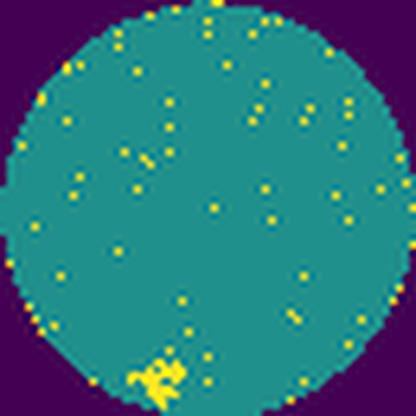Loc: (129, 355, 188, 410)
